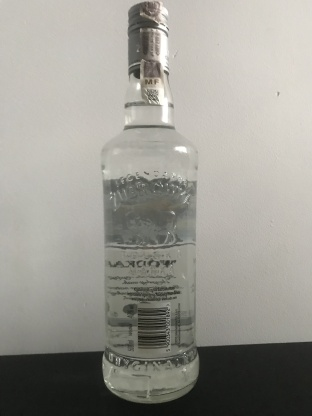nakretka: (125, 0, 171, 79)
